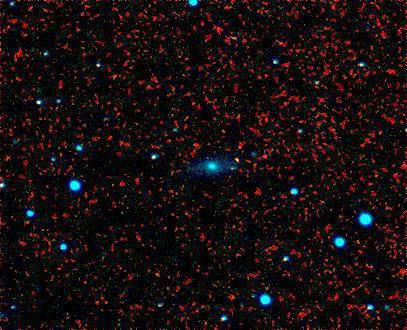star: (222, 144, 252, 174)
